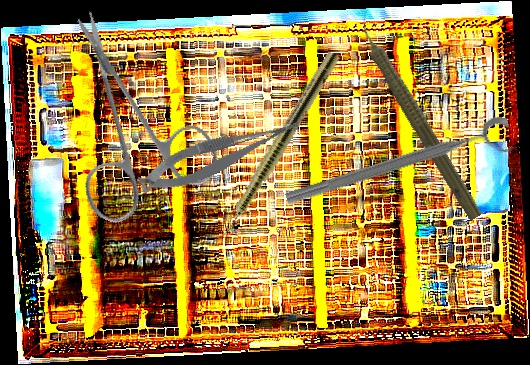Fixation Ring: (282, 113, 518, 224)
Handpiece: (345, 8, 491, 224), (211, 49, 341, 249)
Iris Scissors: (12, 8, 252, 251)
Micro Scissor: (130, 112, 310, 200)
